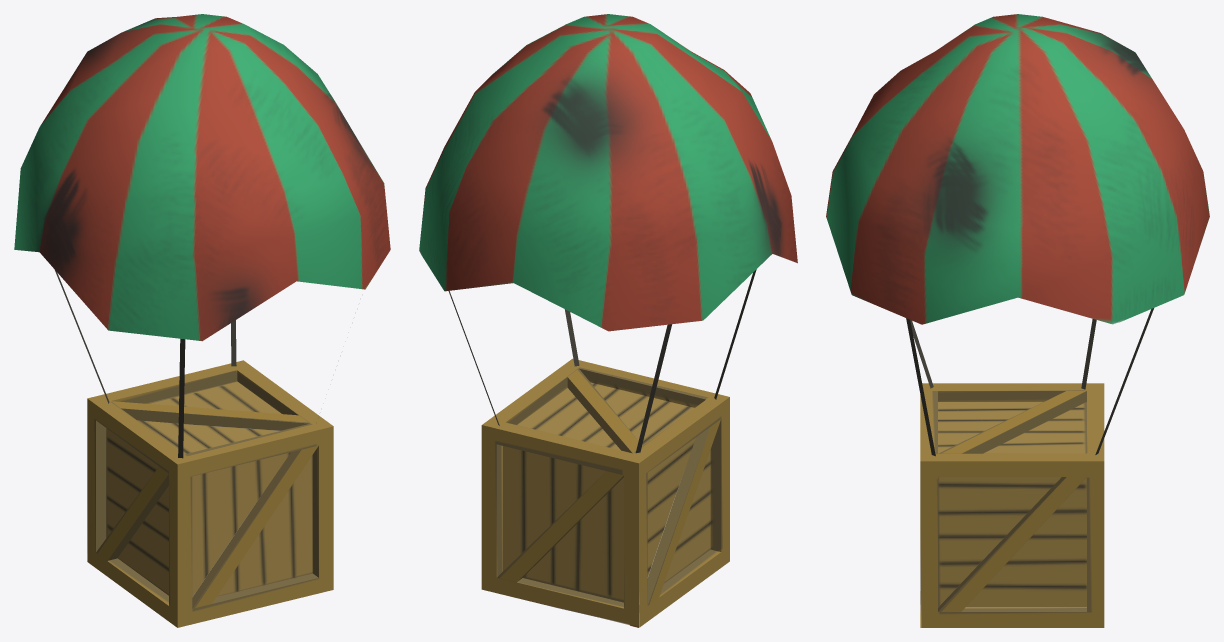
The model's file is Parachute.fbx.
The picture shows the model from 3 angles, left to right: view 1: azimuth 30°, elevation 25°; view 2: azimuth 150°, elevation 25°; view 3: azimuth 270°, elevation 25°; orthographic projection.
Parts seen in each view (by area): view 1: pSphere2, pCube12; view 2: pSphere2, pCube12; view 3: pSphere2, pCube12.
Part boxes in pixels (bbox=[...]): pSphere2: bbox=[14, 14, 390, 458]; pCube12: bbox=[87, 360, 333, 627]; pSphere2: bbox=[419, 14, 797, 453]; pCube12: bbox=[481, 358, 729, 627]; pSphere2: bbox=[826, 14, 1209, 456]; pCube12: bbox=[920, 383, 1104, 627].
Bounding box in the file's own units: 12 × 19.22 × 12.
